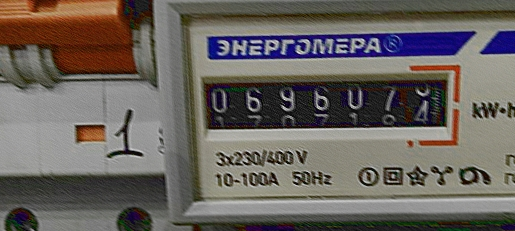0: (345, 81, 364, 111), (211, 86, 228, 114)
4: (413, 96, 430, 125)
6: (312, 82, 330, 111), (245, 85, 262, 113)
7: (379, 82, 399, 113)
9: (278, 84, 296, 113)
screen: (188, 61, 466, 146)
